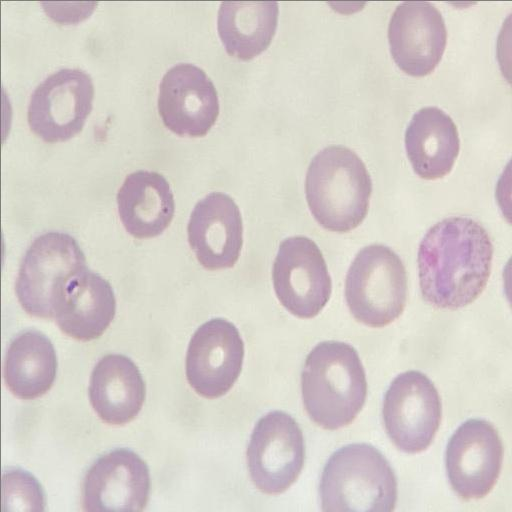Infected: (415, 216, 491, 310)
Uninfected: (15, 231, 88, 320), (303, 146, 371, 234), (300, 342, 367, 427), (26, 66, 95, 141), (318, 444, 395, 511), (343, 245, 405, 326), (53, 268, 117, 344), (271, 237, 330, 318), (184, 319, 244, 396), (157, 63, 220, 136), (246, 412, 304, 490), (186, 192, 244, 269), (382, 373, 440, 450), (385, 1, 446, 74), (444, 420, 500, 498), (82, 449, 148, 511), (115, 169, 175, 237), (87, 355, 145, 423), (404, 106, 459, 176), (2, 331, 56, 399), (217, 1, 278, 59)
